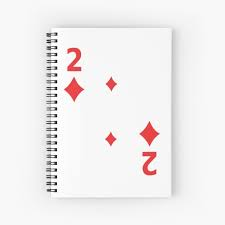two of diamonds: (60, 39, 166, 187)
